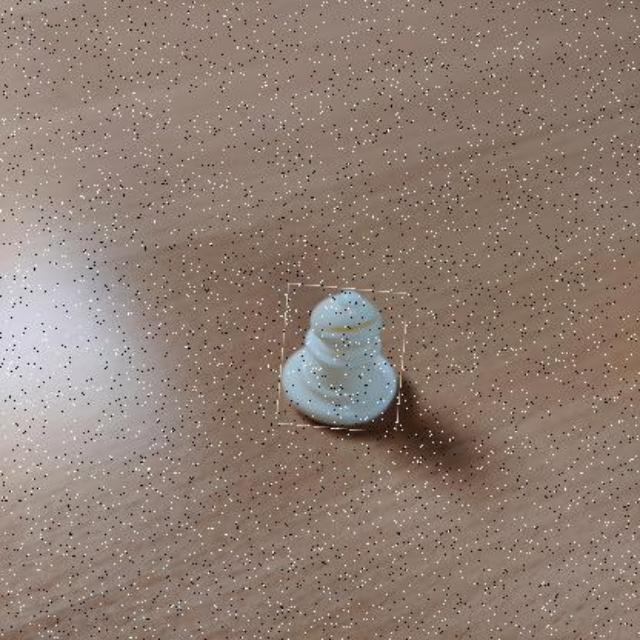white-bishop: (281, 286, 405, 430)
